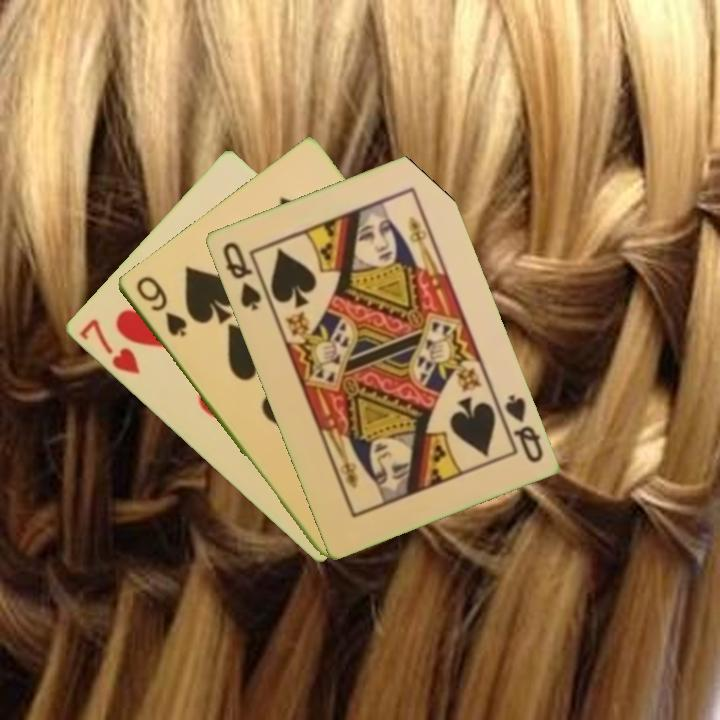7h: (75, 315, 143, 377)
9s: (131, 272, 190, 340)
Qs: (492, 390, 546, 466), (218, 238, 264, 314)
